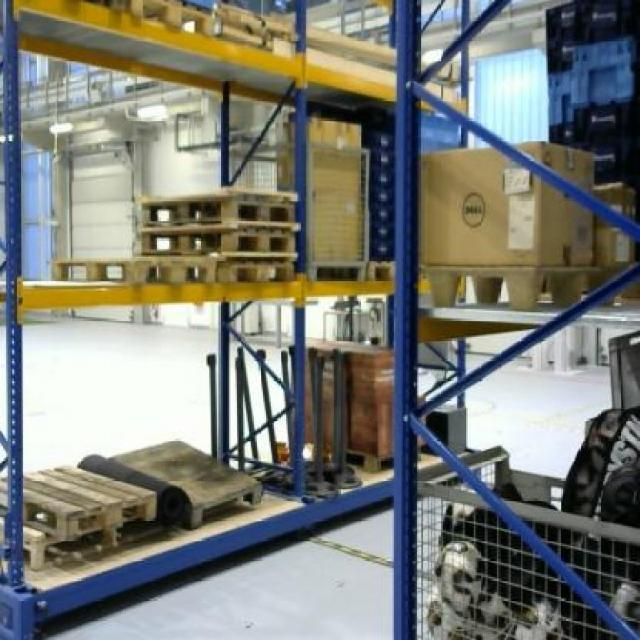box: (418, 140, 596, 266), (308, 116, 360, 258)
